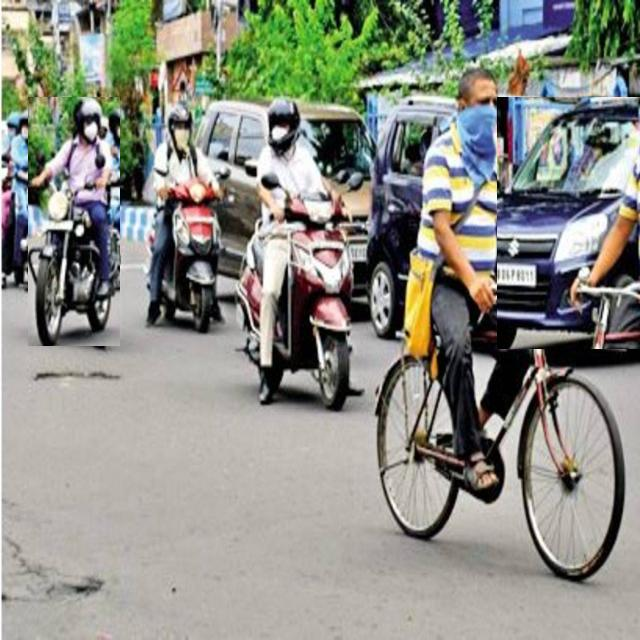bicycle: (376, 67, 624, 580)
car: (497, 98, 640, 349)
motorcycle: (236, 98, 352, 410), (28, 98, 120, 346), (148, 102, 221, 331)
